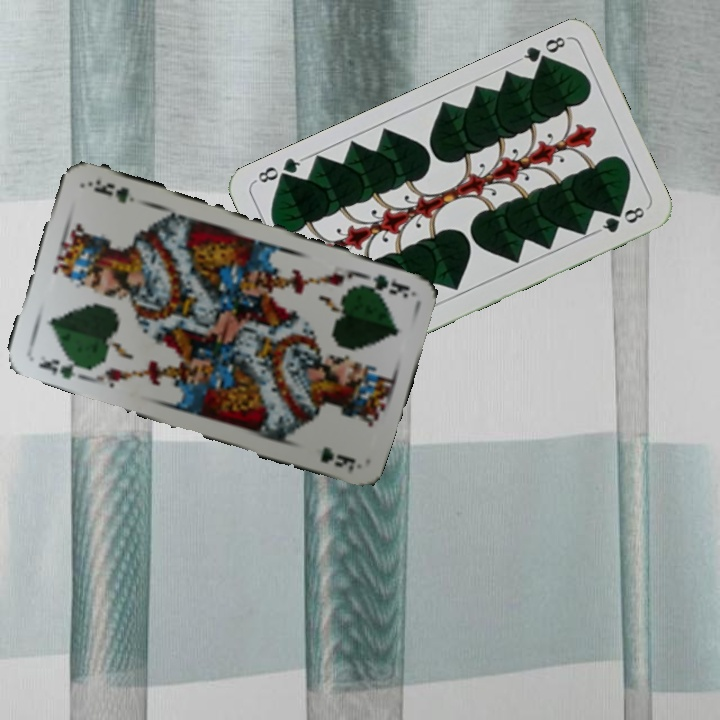G8: (514, 32, 570, 71)
GK: (357, 270, 416, 301), (34, 354, 84, 382)
